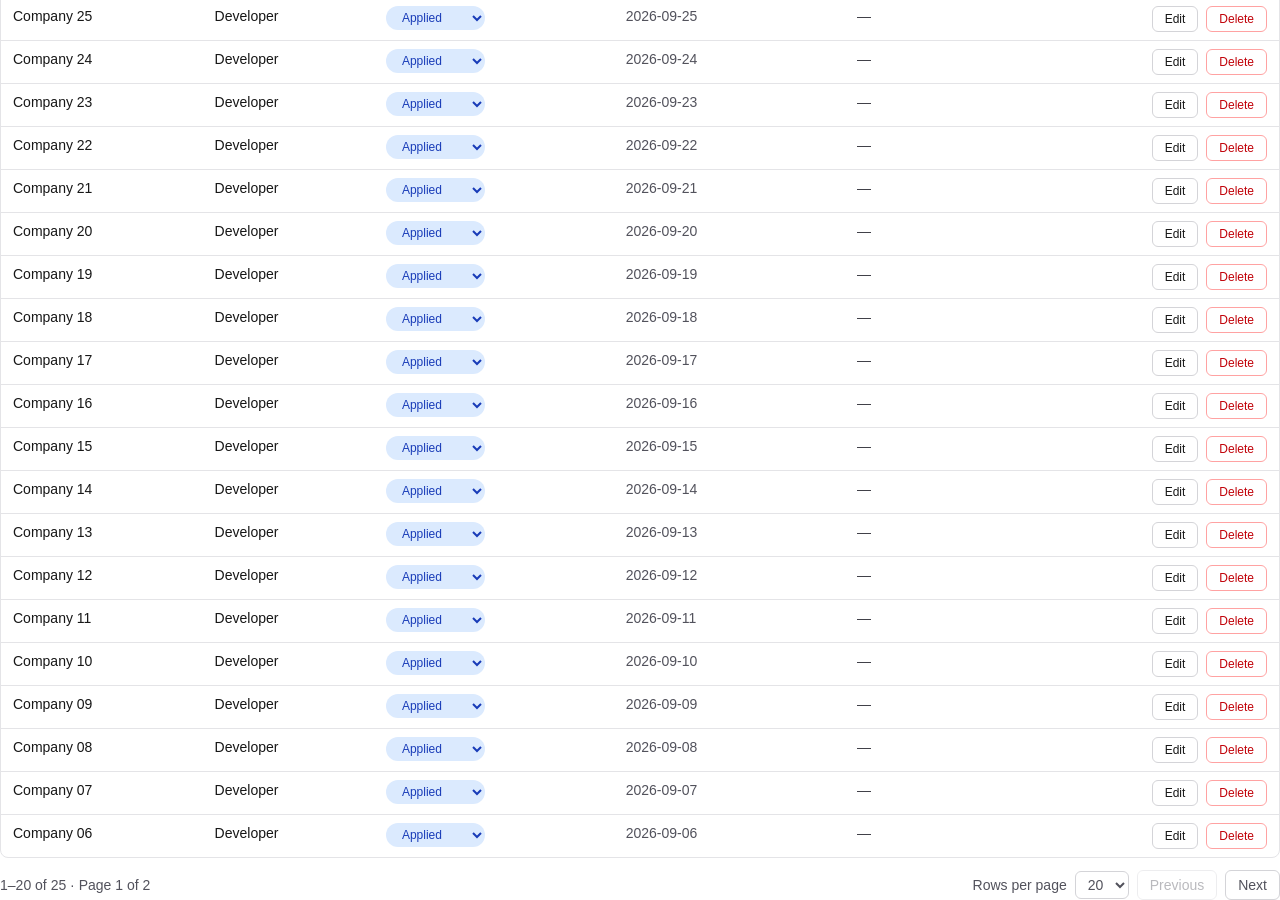
it: ApplicationTable pagination › changes page size and goes back to page 1
The width and height of the screenshot is (1280, 900).
(page scrolled)
Step 1. Click the button "Next" → (1253,885), box [1225, 870, 1279, 899]
(page scrolled)
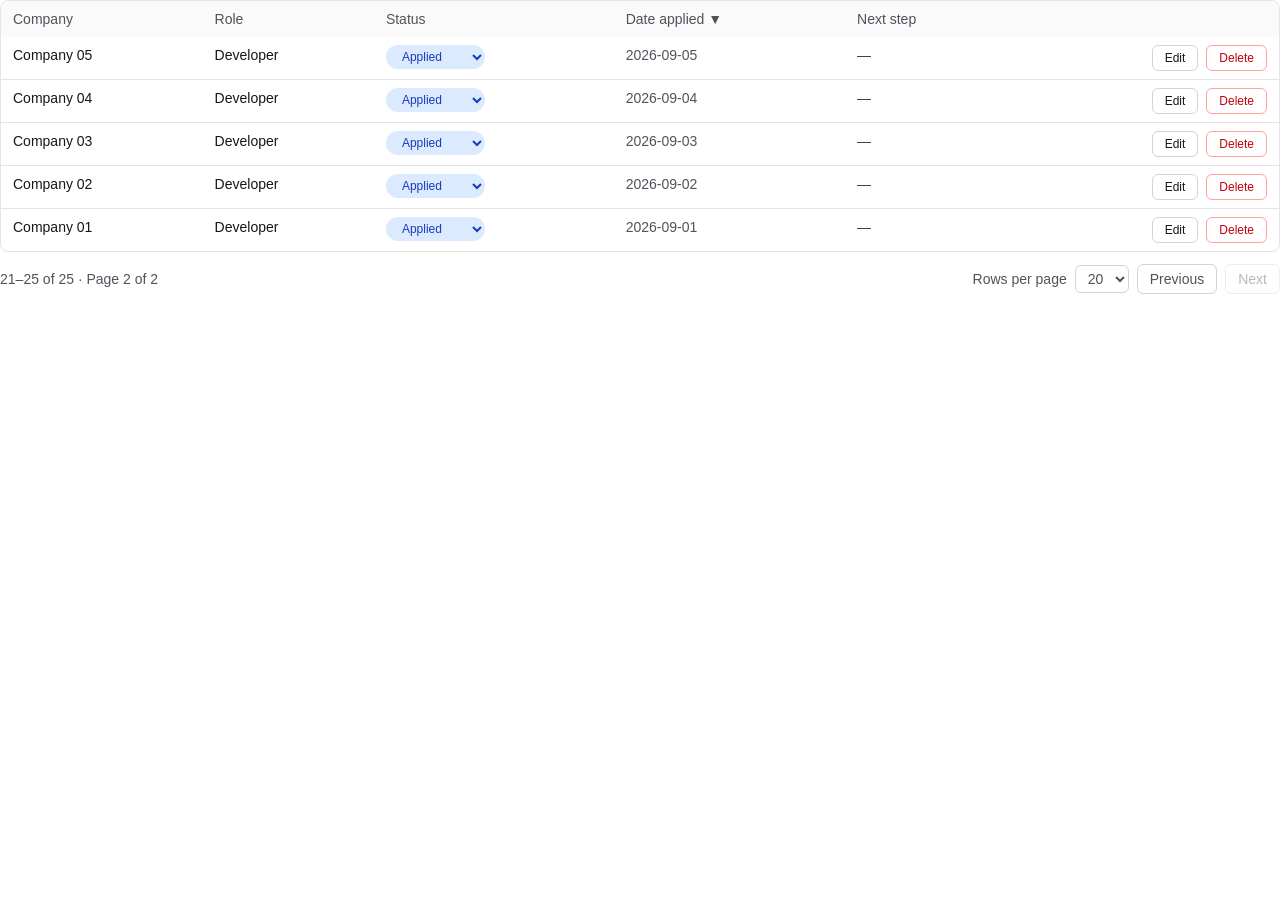
Step 2. Select "10" in the dropdown labelled "Rows per page" → (1102,279), box [1075, 265, 1129, 293]
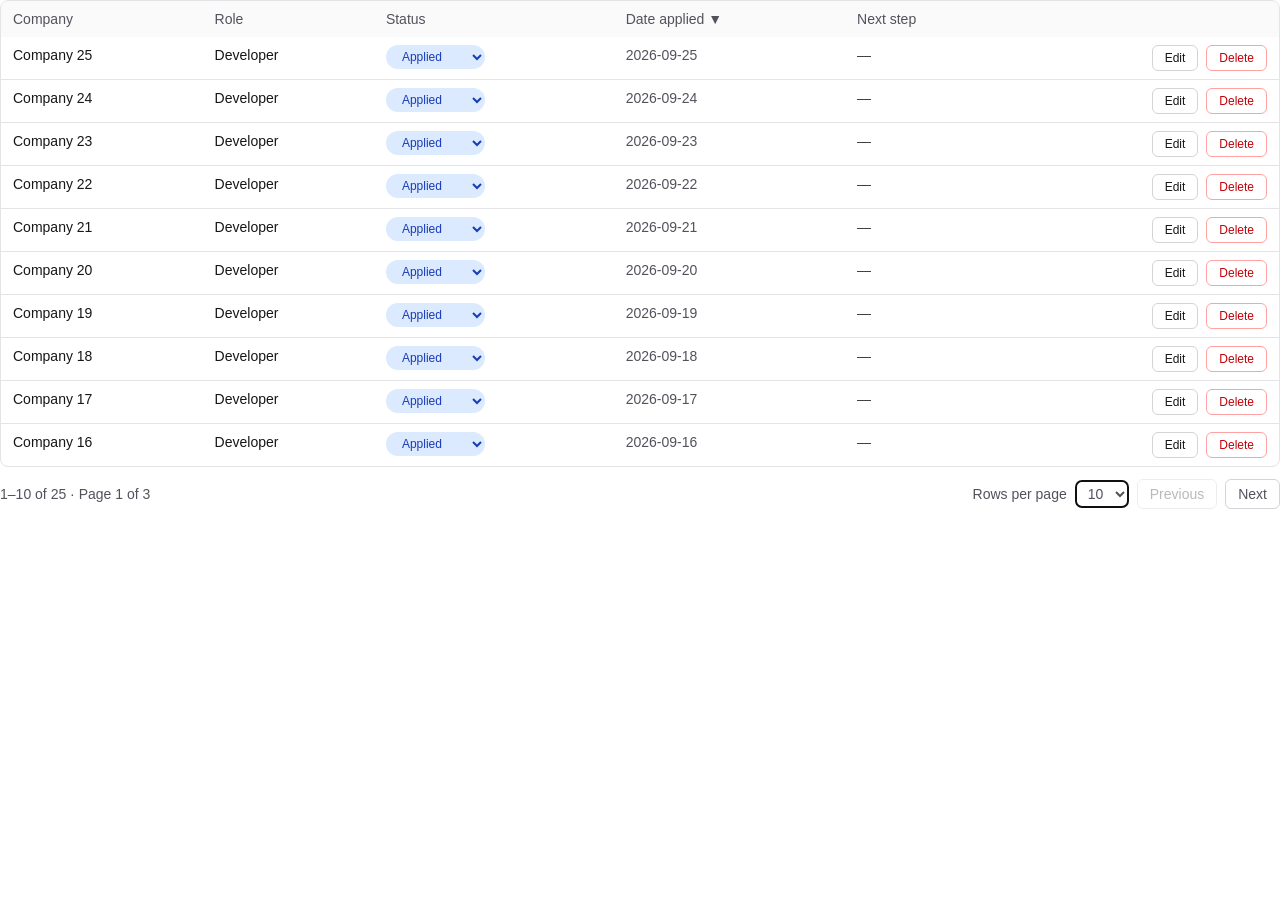
Check: the text "1–10 of 25 · Page 1 of 3" is shown, box [0, 484, 150, 504]
